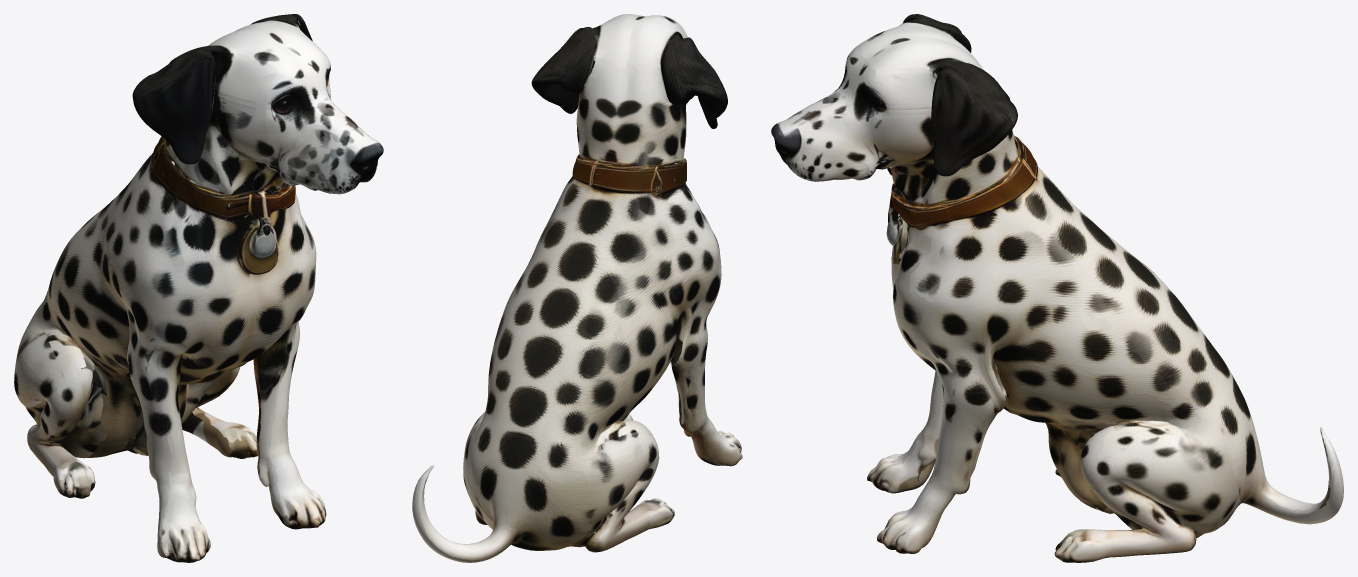
File: kopek.glb
The picture shows the model from 3 angles, left to right: view 1: azimuth 30°, elevation 25°; view 2: azimuth 150°, elevation 25°; view 3: azimuth 270°, elevation 25°; orthographic projection. The views are drawn at different scales.
Visible parts, largest first — view 1: Dog; view 2: Dog; view 3: Dog.
Part boxes in pixels (x1,y1,x2,y2): Dog: (14,14,383,562); Dog: (412,14,742,562); Dog: (771,14,1343,562).
Size of the model in its own units: 0.3008 by 0.7118 by 0.75.
Materials: 1 (1 with a texture image).
